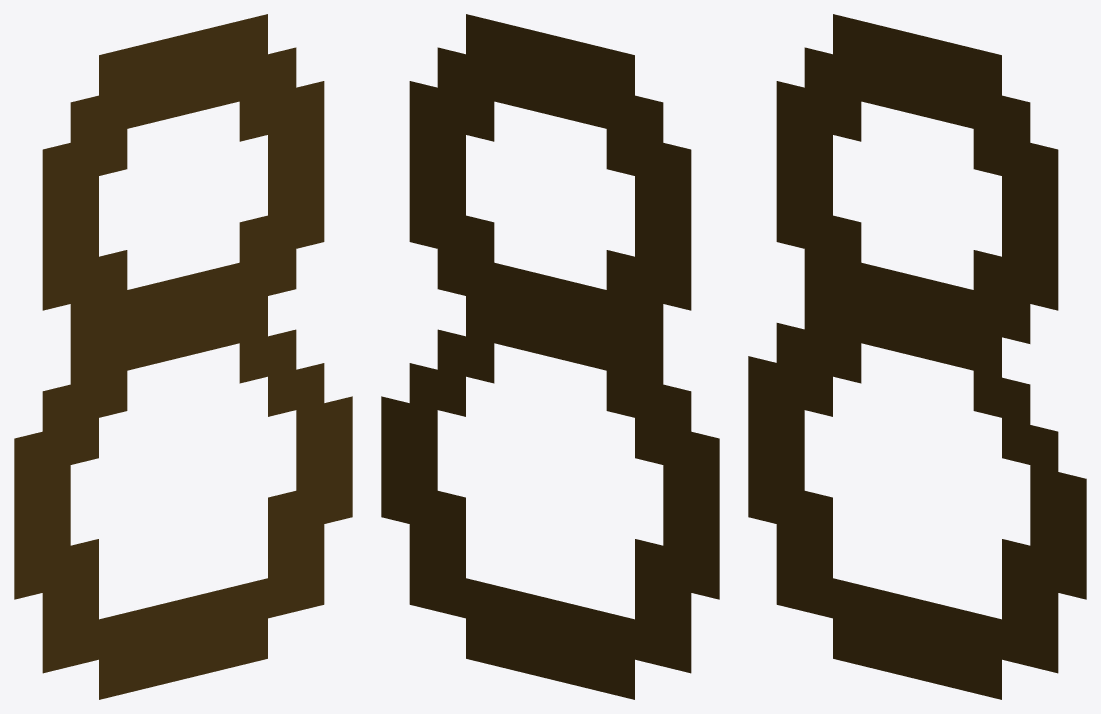
Rendered from score_glyph_8.obj.
3 views of the same model, side by side, from view 1: azimuth 30°, elevation 25°; view 2: azimuth 150°, elevation 25°; view 3: azimuth 330°, elevation 25° (orthographic).
Parts seen in each view (by area): view 1: board_text; view 2: board_text; view 3: board_text.
Part boxes in pixels (<box>): board_text: <box>14,14,352,699</box>; board_text: <box>381,14,719,699</box>; board_text: <box>748,14,1086,699</box>.
Size of the model in its own units: 0.5486 by 1 by 0.
